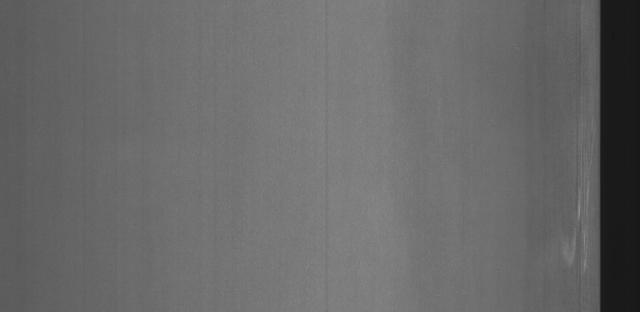silk_spot: (557, 12, 598, 282)
